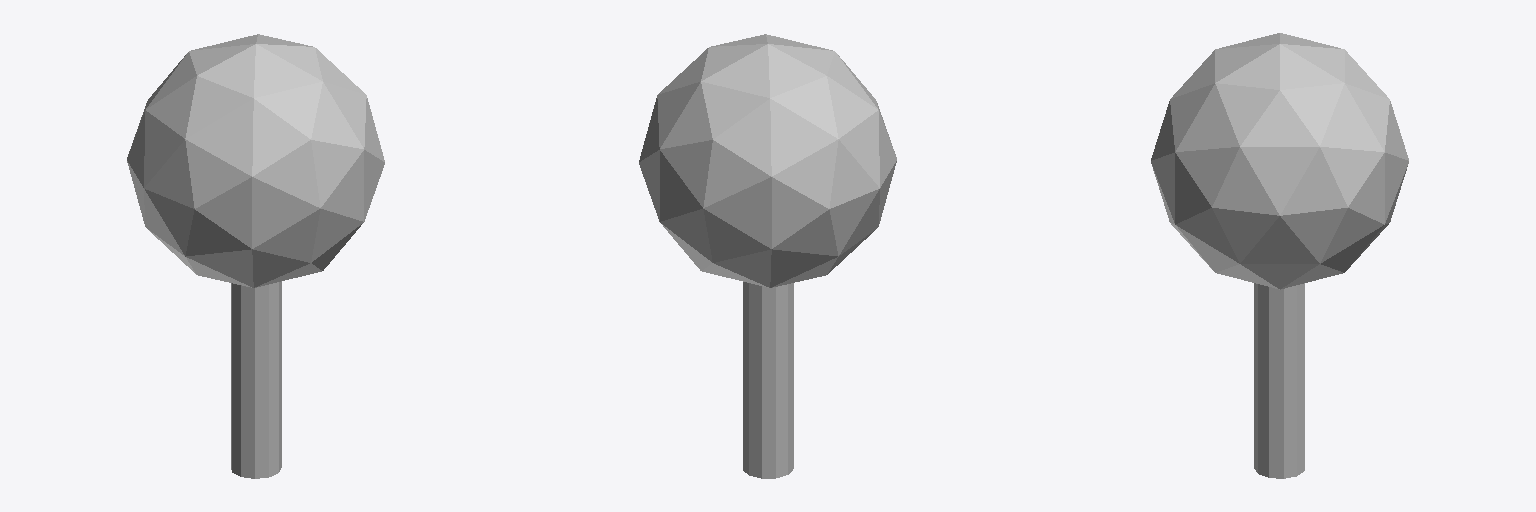
File: tree.obj
The picture shows the model from 3 angles: view 1: azimuth 30°, elevation 25°; view 2: azimuth 150°, elevation 25°; view 3: azimuth 270°, elevation 25°; orthographic projection.
Visible parts, largest first — view 1: Icosahedron, Cylinder; view 2: Icosahedron, Cylinder; view 3: Icosahedron, Cylinder.
Part boxes in pixels (x1,y1,x2,y2): Icosahedron: (127,34,384,287); Cylinder: (231,281,281,478); Icosahedron: (639,34,896,287); Cylinder: (743,282,793,478); Icosahedron: (1151,33,1408,289); Cylinder: (1254,283,1304,478).
Size of the model in its own units: 1 by 1.81 by 1.